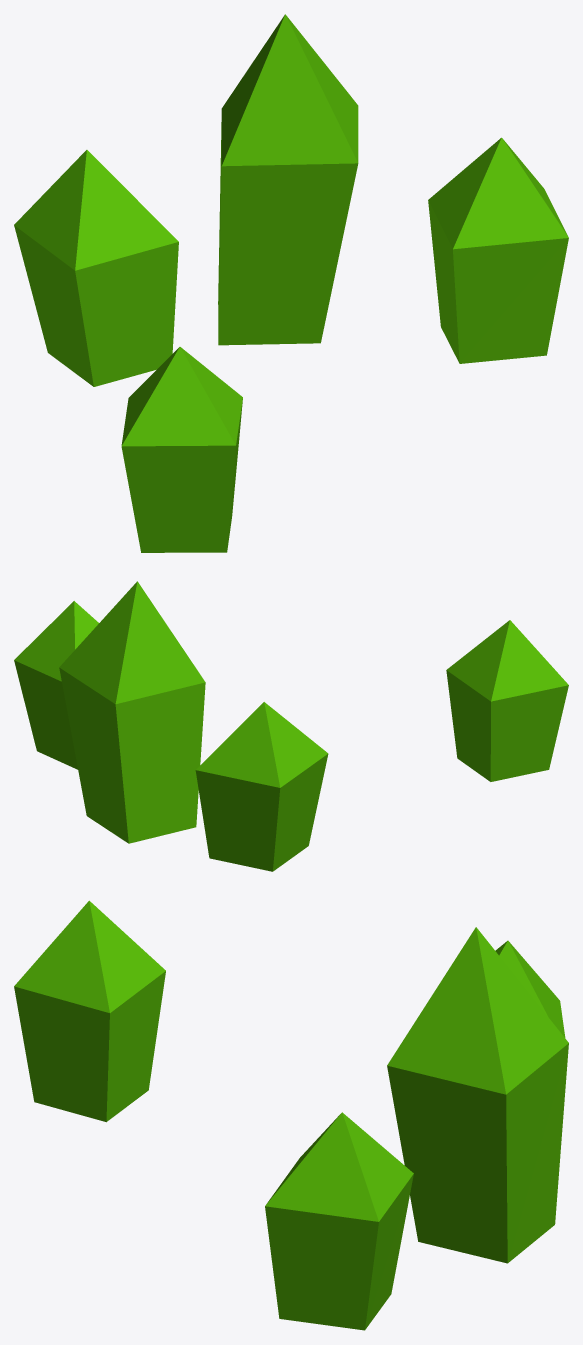
The model's file is crystal_terra_3.obj.
3 renders of one model, top to bottom at view 1: azimuth 30°, elevation 25°; view 2: azimuth 150°, elevation 25°; view 3: azimuth 270°, elevation 25°, orthographic. The views are drawn at different scales.
Visible parts, largest first — view 1: s016, s017, s014, s015; view 2: s016, s017, s015, s014; view 3: s016, s015, s014, s017.
Part boxes in pixels (x1,y1,x2,y2): s016: (218, 14, 358, 345); s017: (14, 150, 178, 386); s014: (428, 137, 568, 363); s015: (121, 347, 242, 552); s016: (59, 581, 205, 843); s017: (195, 702, 328, 871); s015: (446, 620, 568, 781); s014: (14, 601, 98, 769); s016: (387, 927, 568, 1263); s015: (14, 900, 165, 1122); s014: (265, 1112, 413, 1330); s017: (495, 940, 565, 1037).
Bounding box in the file's own units: 0.8279 × 0.4254 × 0.6865.
